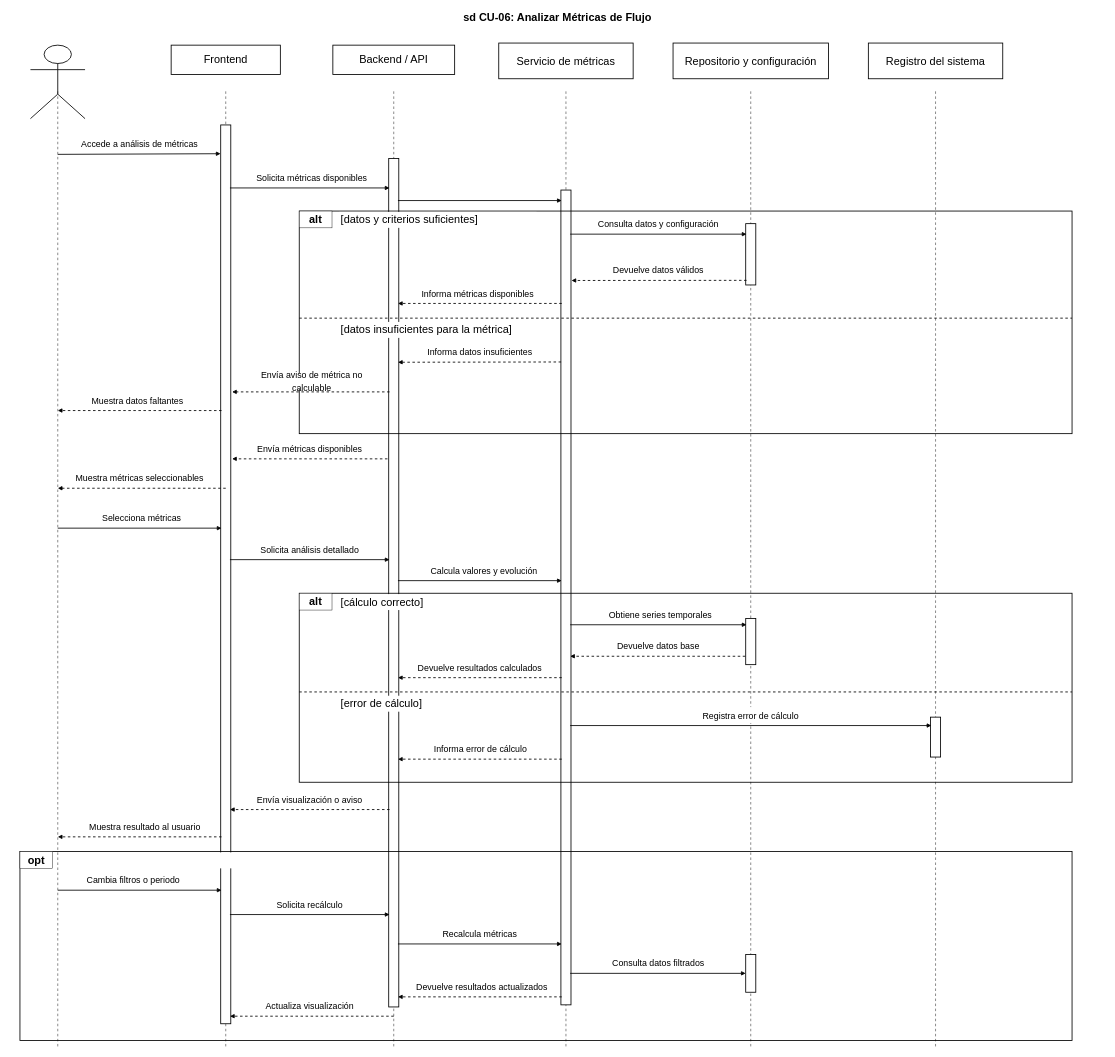
Image size: 1115x1057. Some labels were removed from this diagram. Here are the shapes that lost their labels. From the top down, the centre of each, then its label:
At (x=57, y=82): "Usuario autenticado".
At (x=479, y=190): "Valida ámbito y criterios".
At (x=207, y=860): "[el usuario cambia filtros o periodo de análisis]".
